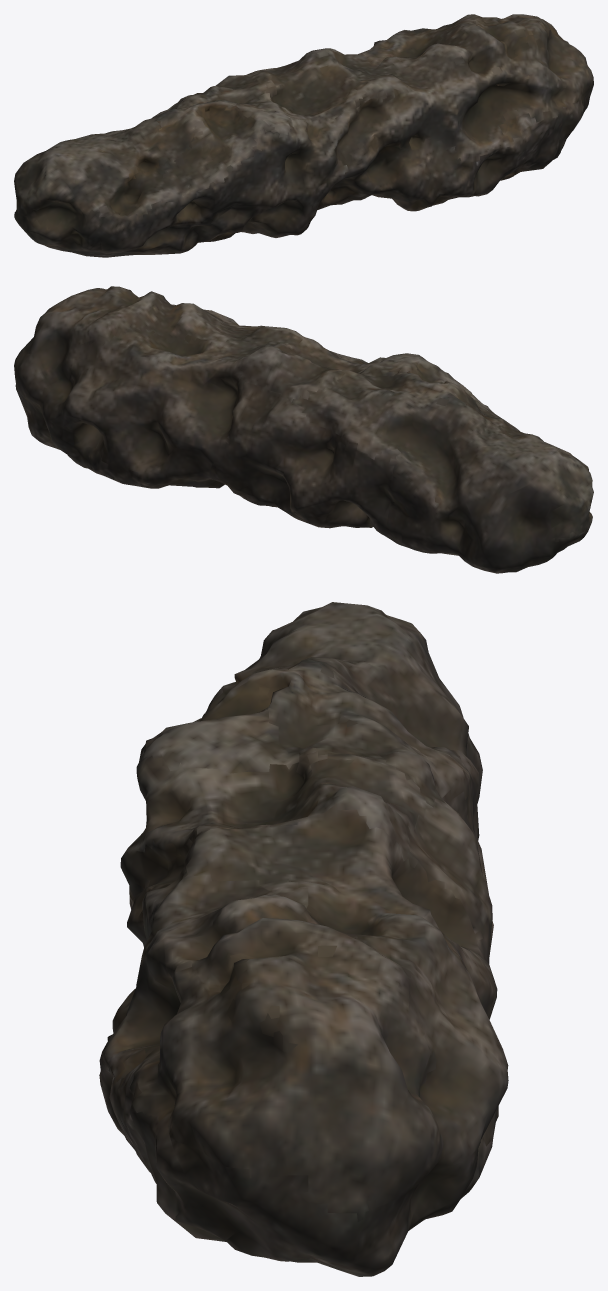
File: asteroid_uncommon_1_lod1.glb
The picture shows the model from 3 angles, top to bottom: view 1: azimuth 30°, elevation 25°; view 2: azimuth 150°, elevation 25°; view 3: azimuth 270°, elevation 25°; orthographic projection. The views are drawn at different scales.
Parts seen in each view (by area): view 1: model; view 2: model; view 3: model.
Boxes of the visible parts, <box> form: model: <box>14,14,593,257</box>; model: <box>14,286,593,573</box>; model: <box>99,602,508,1276</box>.
Bounding box in the file's own units: 1.89 × 0.5092 × 0.6123.
1 material, 1 textured.
